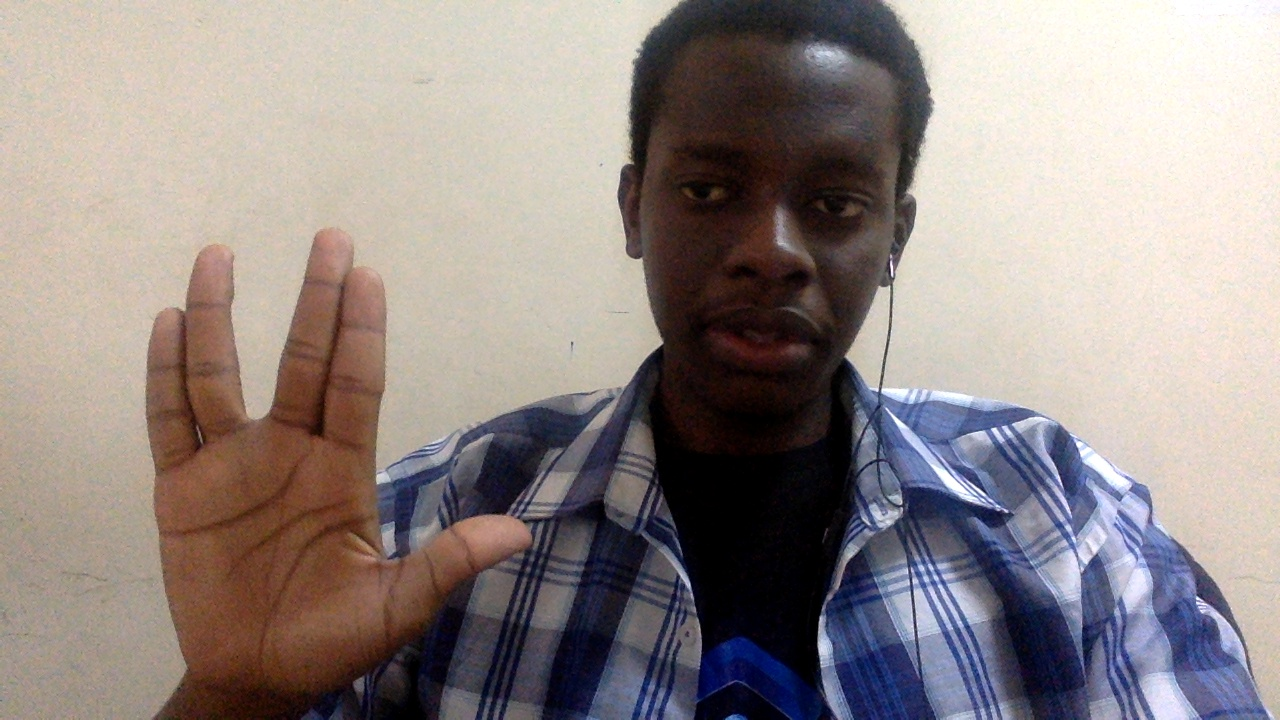LiveLong: (142, 227, 534, 693)
